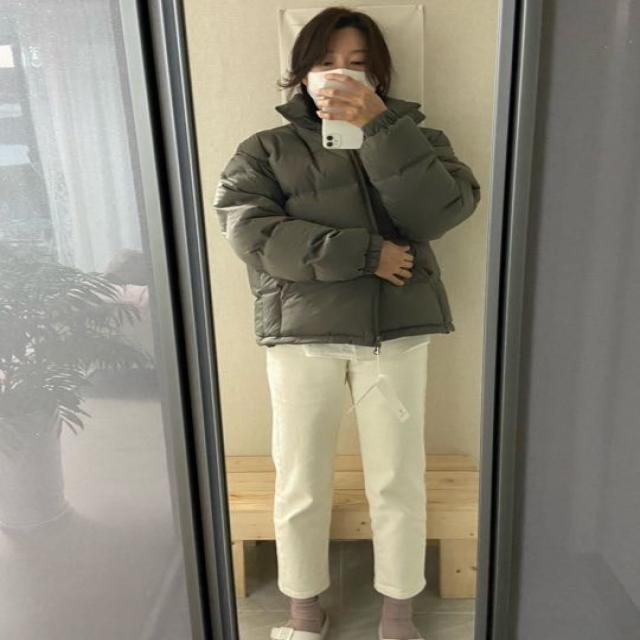cottonpants: (265, 332, 435, 600)
padding: (211, 92, 481, 343)
